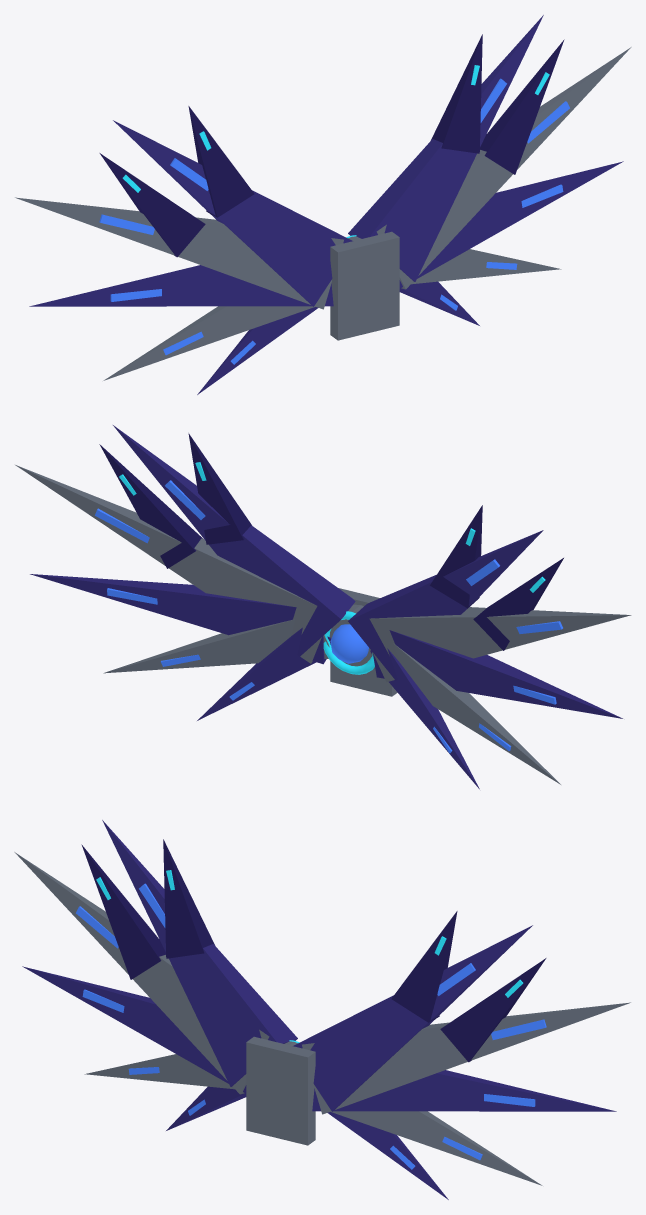
File: singularity_wings.glb
3 renders of one model, top to bottom at view 1: azimuth 30°, elevation 25°; view 2: azimuth 150°, elevation 25°; view 3: azimuth 330°, elevation 25°, orthographic.
Visible parts, largest first — view 1: singularity_wings; view 2: singularity_wings; view 3: singularity_wings.
Part boxes in pixels (box(x1,y1,x2,y2)): singularity_wings: box(15, 15, 631, 394); singularity_wings: box(15, 425, 631, 789); singularity_wings: box(14, 820, 630, 1199).
Bounding box in the file's own units: 5.5 × 2.46 × 0.7072.
1 material, 1 textured.
